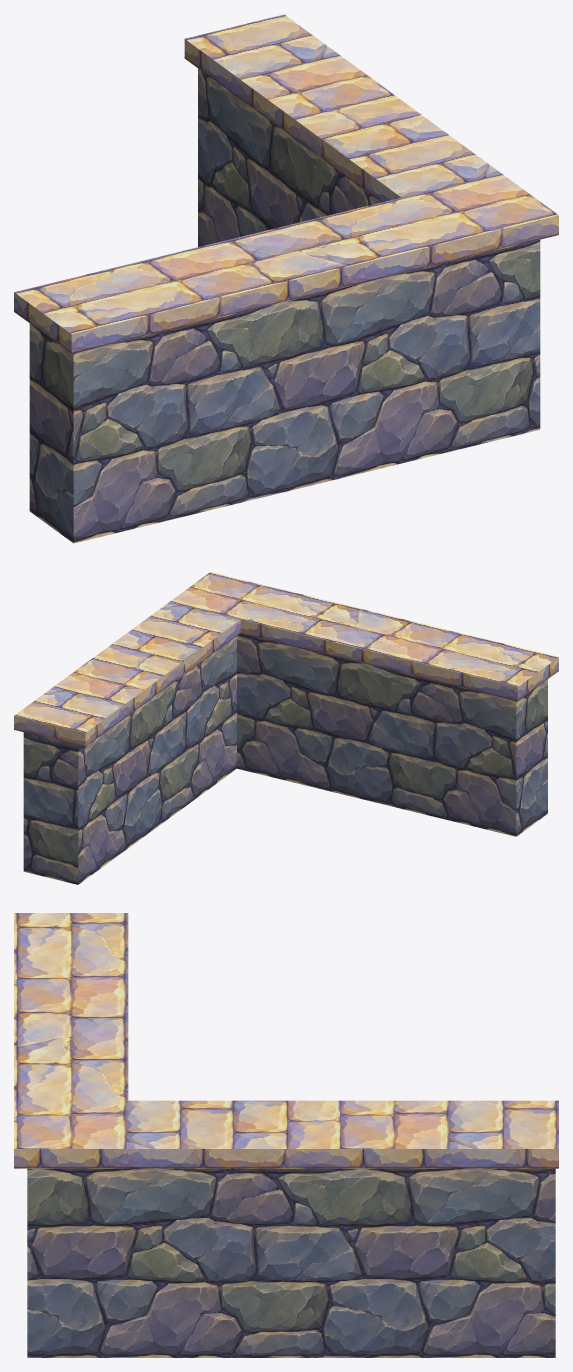
The model's file is Stone_Wall_Corner.fbx.
3 views of the same model, one above another, from view 1: azimuth 30°, elevation 25°; view 2: azimuth 150°, elevation 25°; view 3: azimuth 270°, elevation 25° (orthographic). The views are drawn at different scales.
Parts seen in each view (by area): view 1: Stone_Wall_Corner.001; view 2: Stone_Wall_Corner.001; view 3: Stone_Wall_Corner.001.
Boxes of the visible parts, box(x1,y1,x2,y2) form: Stone_Wall_Corner.001: box(14, 14, 558, 543); Stone_Wall_Corner.001: box(14, 572, 558, 884); Stone_Wall_Corner.001: box(14, 913, 558, 1357).
Size of the model in its own units: 415 by 176 by 405.
Materials: 2 (2 with a texture image).
